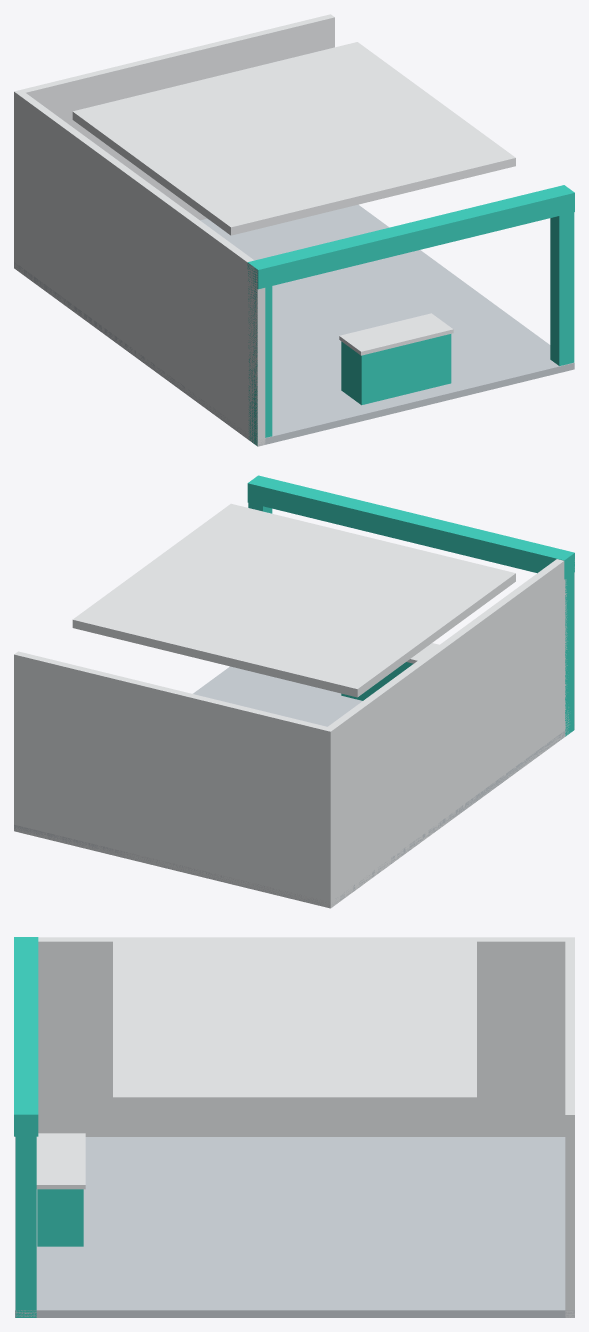
The picture shows the model from 3 angles, top to bottom: view 1: azimuth 30°, elevation 25°; view 2: azimuth 150°, elevation 25°; view 3: azimuth 270°, elevation 25°; orthographic projection. The views are drawn at different scales.
Parts seen in each view (by area): view 1: Exhibition Booth Concept; view 2: Exhibition Booth Concept; view 3: Exhibition Booth Concept.
Part boxes in pixels (x1=…): Exhibition Booth Concept: x1=14, y1=14, x2=574, y2=446; Exhibition Booth Concept: x1=14, y1=475, x2=574, y2=908; Exhibition Booth Concept: x1=14, y1=937, x2=574, y2=1317.
Bounding box in the file's own units: 6 × 3.34 × 8.01.
